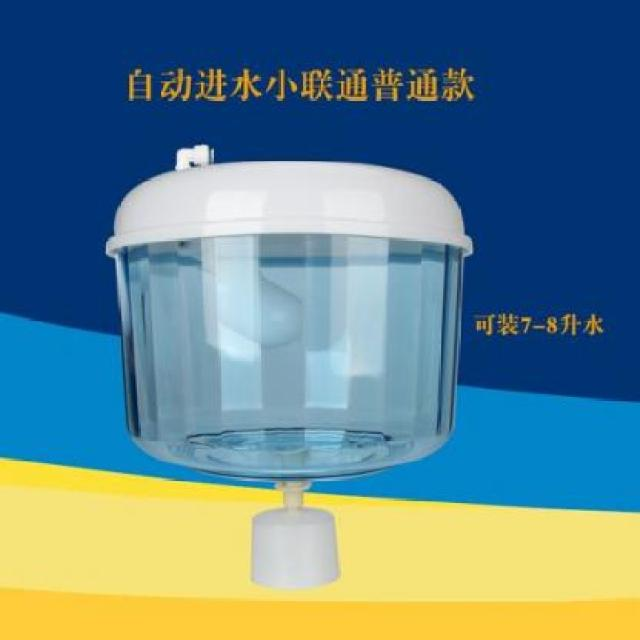coolerbottle: (107, 157, 476, 486)
